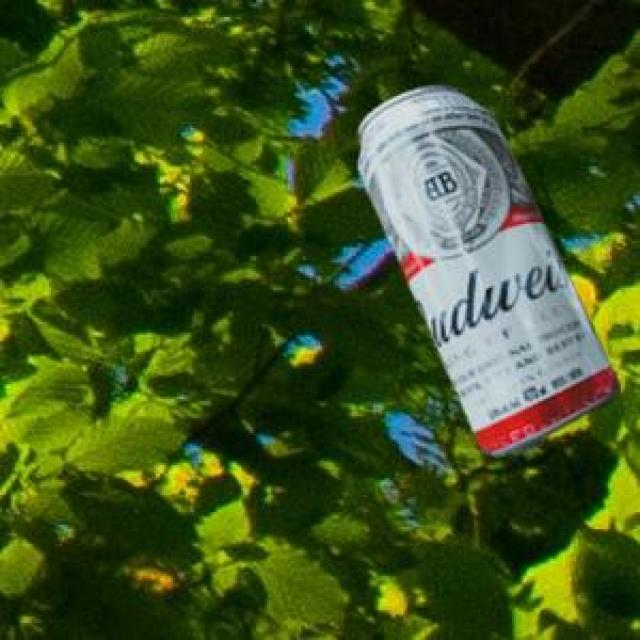logam: (355, 84, 615, 453)
